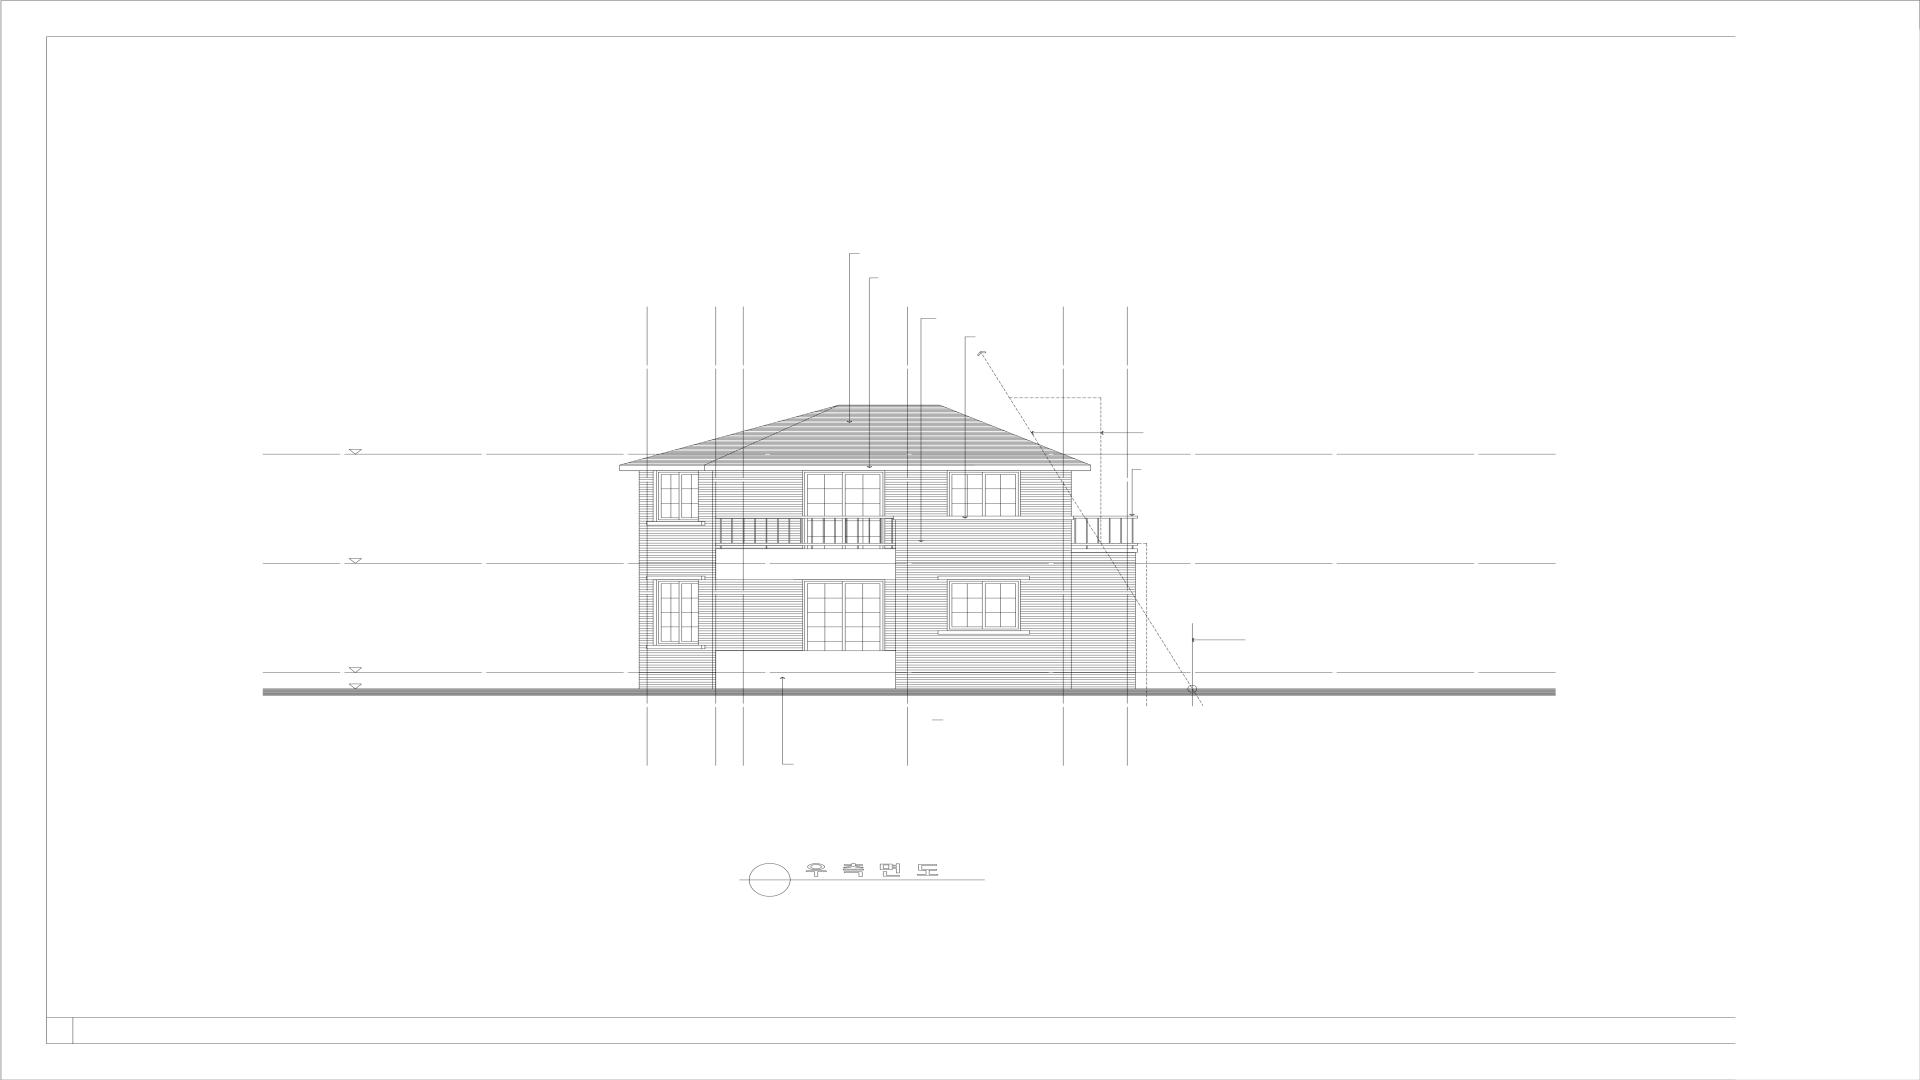wall: (620, 405, 1138, 688)
window: (802, 471, 885, 549), (802, 580, 885, 650), (947, 580, 1021, 630), (947, 471, 1021, 516), (653, 580, 699, 645), (653, 471, 699, 522)
